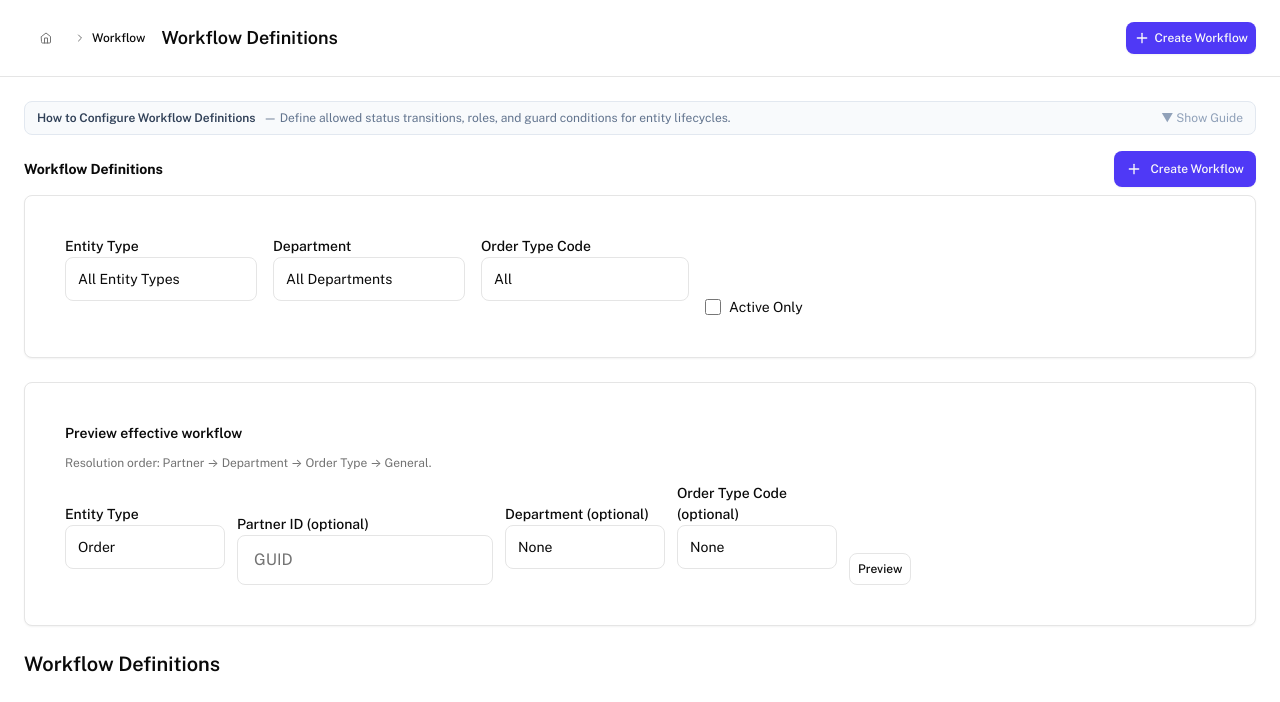
Test case: WorkflowDefinitionsPage › Error Handling › should display success notifications
The image size is (1280, 702).
Expected: the 1st button "Create Workflow" is shown, [1126,22,1256,54]
Click the 2nd button "Create Workflow".
click(1185, 169)  # box [1114,151,1256,187]
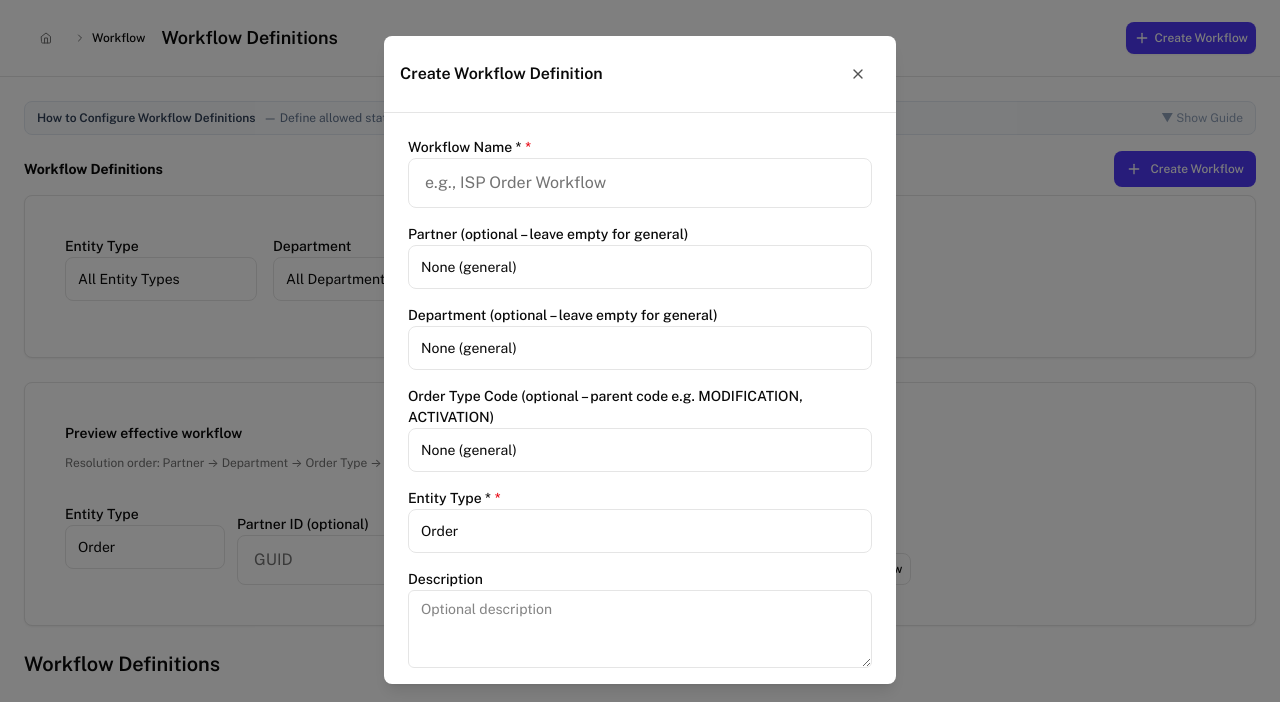
Expected: the field labelled "Workflow Name **" is shown
Type "New Workflow" into the field labelled "Workflow Name **".
click(640, 183); type("New Workflow")  # box [408,158,872,208]
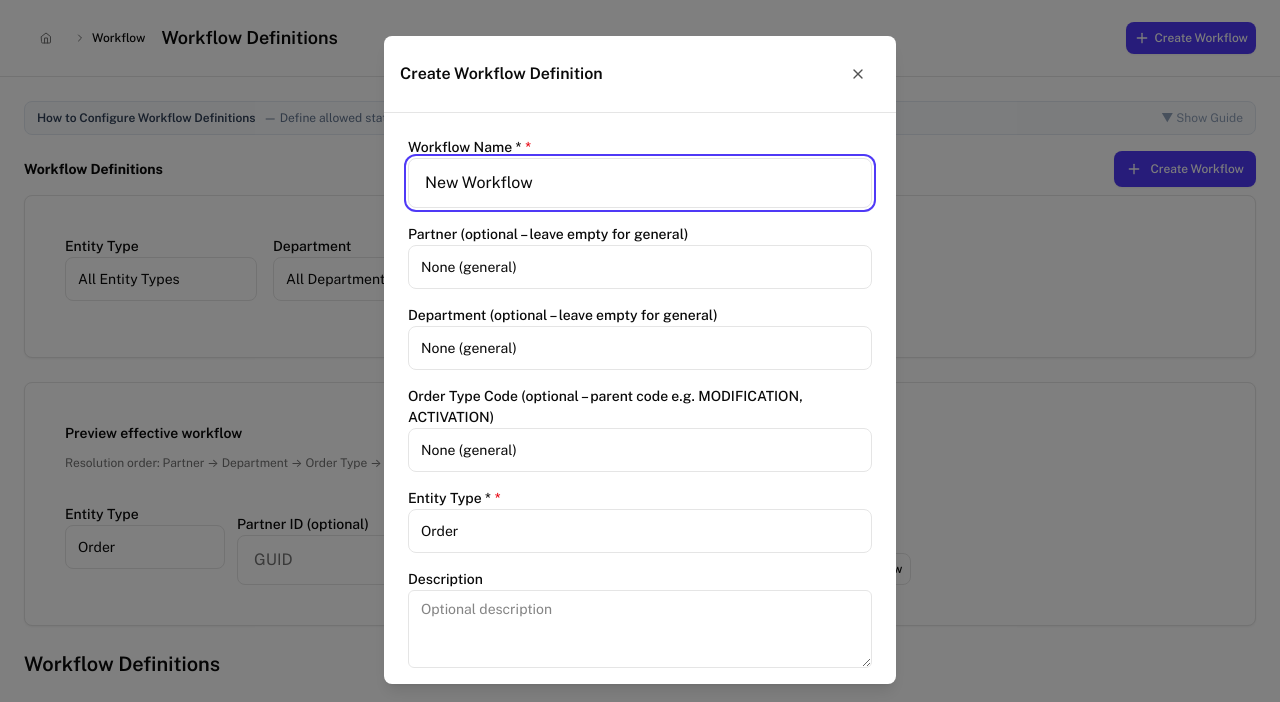
Select "Test Department" in the dropdown labelled "Department (optional – leave empty for general)" at (640,348), box [408,326,872,370]
(page scrolled)
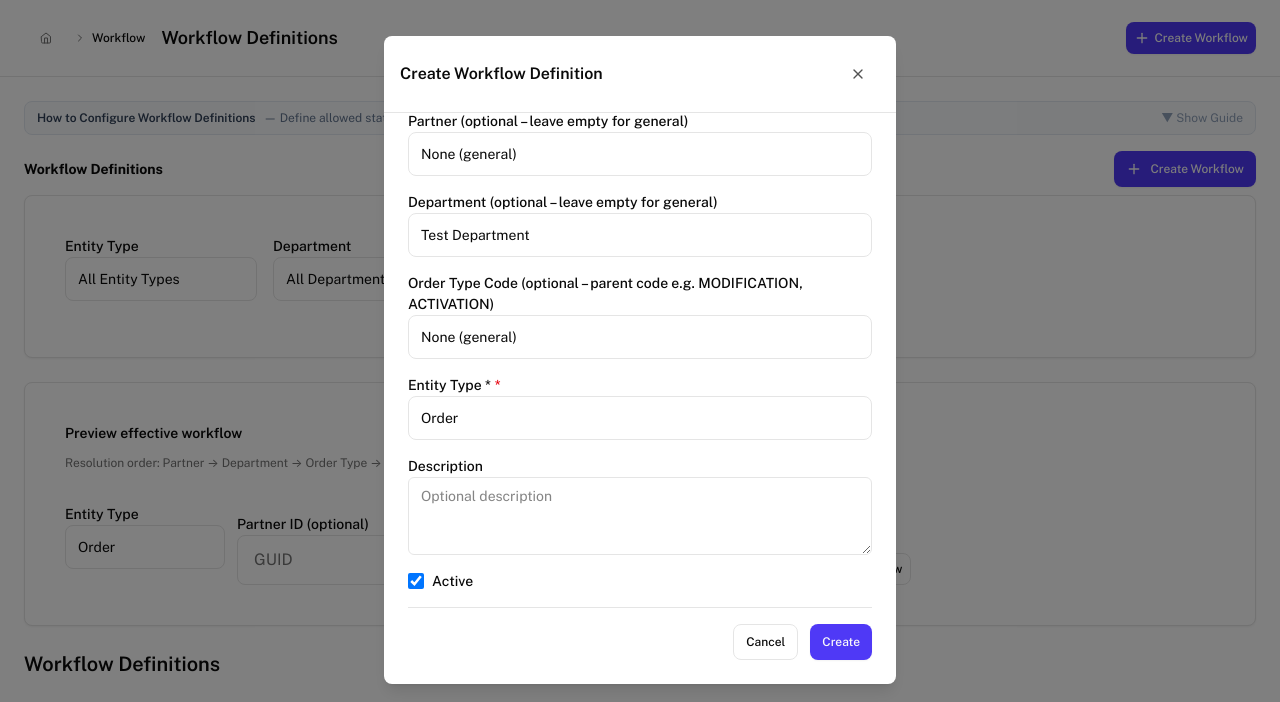
Click the button "Create".
click(841, 642)  # box [810,624,872,660]
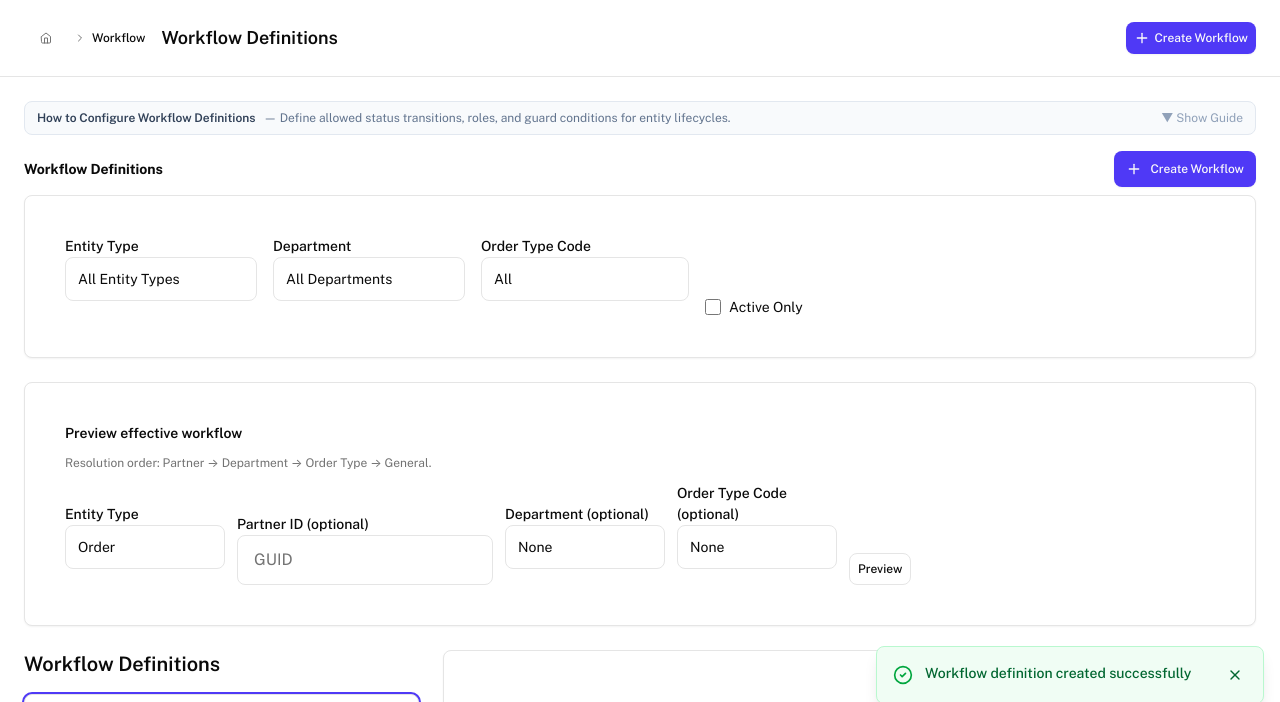
Expected: the text "Workflow definition created successfully" is shown, [925,663,1211,683]
